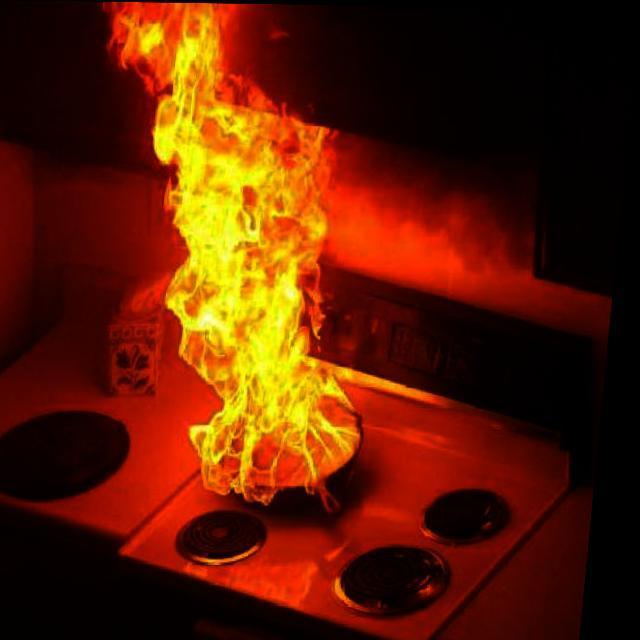Fire: (74, 1, 419, 530)
Smoke: (0, 0, 640, 304)
